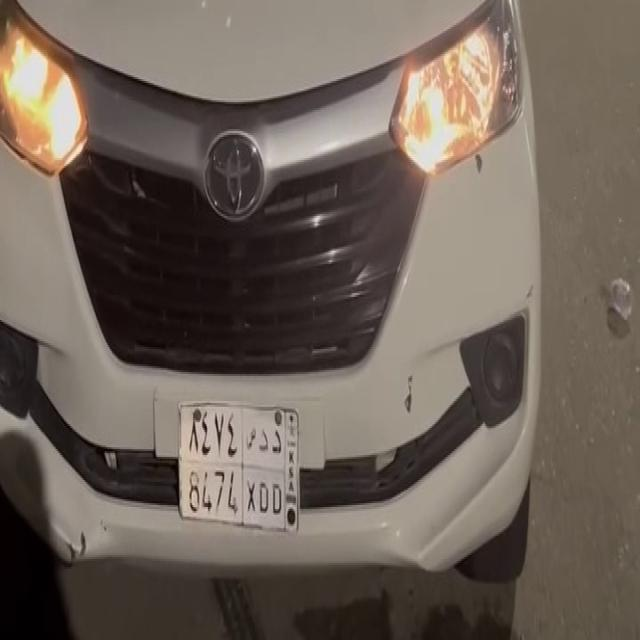Car-plate: (172, 390, 305, 544)
